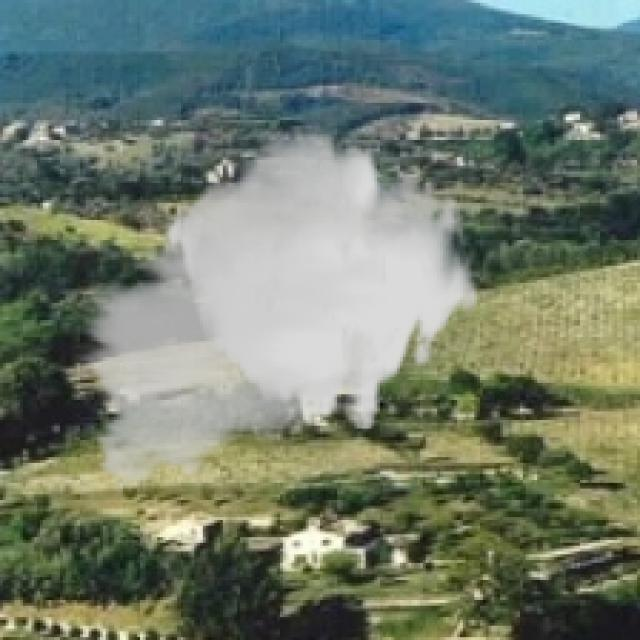smoke: (71, 126, 480, 500)
